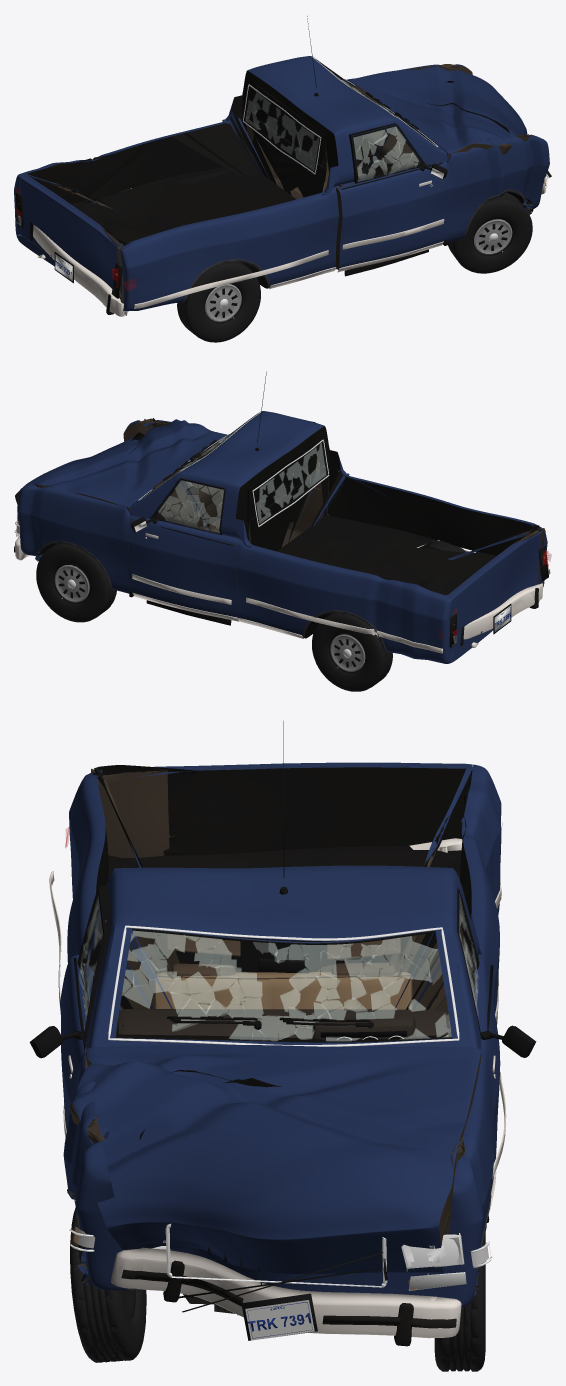
Rendered from pickup87_front_corner_R_d1_lod1.glb.
3 views of the same model, one above another, from view 1: azimuth 30°, elevation 25°; view 2: azimuth 150°, elevation 25°; view 3: azimuth 270°, elevation 25° (orthographic). The views are drawn at different scales.
Parts seen in each view (by area): view 1: Body, Hood, Door_FR, Tailgate, Wheel_RR_mesh, Wheel_FR_mesh, Glass, Interior, Trim, Trim_FR, Glass_FR, Bumper_R (+1 smaller); view 2: Body, Door_FL, Hood, Wheel_FL_mesh, Wheel_RL_mesh, Tailgate, Glass, Trim, Interior, Trim_FL, Glass_FL, Bumper_R (+1 smaller); view 3: Body, Hood, Interior, Glass, Bumper_F, Ends, Wheel_FR_mesh, Door_FR, Wheel_FL_mesh, Door_FL, Trim, Trim_FL (+3 smaller).
Boxes of the visible parts, x1,y1,x2,y2 form: Body: (14, 56, 549, 312); Hood: (347, 66, 527, 158); Door_FR: (335, 123, 448, 269); Tailgate: (19, 175, 121, 300); Wheel_RR_mesh: (177, 261, 260, 342); Wheel_FR_mesh: (447, 192, 532, 273); Glass: (243, 57, 438, 174); Interior: (294, 85, 418, 194); Trim: (134, 16, 532, 308); Trim_FR: (337, 124, 447, 276); Glass_FR: (351, 124, 422, 183); Bumper_R: (29, 222, 127, 316); Body: (17, 411, 547, 663); Door_FL: (128, 478, 240, 617); Hood: (15, 419, 226, 511); Wheel_FL_mesh: (36, 543, 116, 622); Wheel_RL_mesh: (312, 612, 392, 691); Tailgate: (449, 529, 543, 654); Glass: (138, 412, 329, 526); Trim: (35, 371, 550, 653); Interior: (152, 471, 223, 532); Trim_FL: (131, 478, 238, 625); Glass_FL: (154, 478, 225, 534); Bumper_R: (460, 583, 542, 645); Body: (63, 764, 501, 1307); Hood: (70, 1044, 481, 1273); Interior: (116, 934, 451, 1039); Glass: (108, 925, 459, 1046); Bumper_F: (111, 1247, 461, 1346); Ends: (69, 1223, 492, 1340); Wheel_FR_mesh: (70, 1207, 146, 1362); Door_FR: (60, 886, 110, 1131); Wheel_FL_mesh: (434, 1230, 485, 1371); Door_FL: (457, 887, 500, 1191); Trim: (49, 721, 501, 1289); Trim_FL: (457, 888, 536, 1209).
Bounding box in the file's own units: 4.94 × 2.57 × 2.34.
Materials: 34 (5 with a texture image).
